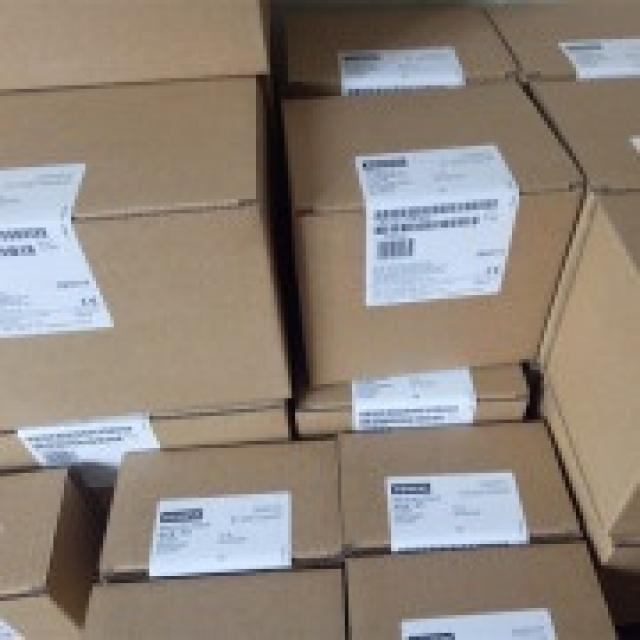box: (0, 75, 292, 430), (281, 75, 583, 391), (0, 398, 295, 533), (100, 434, 345, 576), (540, 188, 640, 533), (334, 420, 583, 555), (345, 540, 619, 640), (281, 0, 523, 96), (82, 558, 348, 640), (0, 469, 107, 640), (299, 363, 530, 437), (526, 75, 640, 192), (480, 0, 640, 75)
